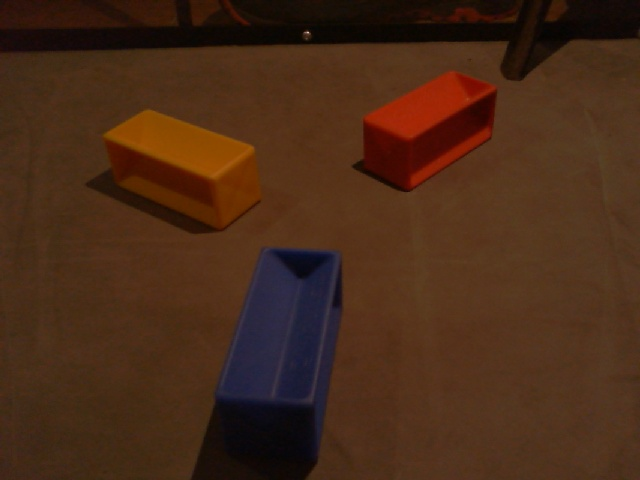BlueSample: (214, 243, 347, 464)
RedSample: (362, 70, 499, 191)
YellowSample: (101, 106, 265, 231)
